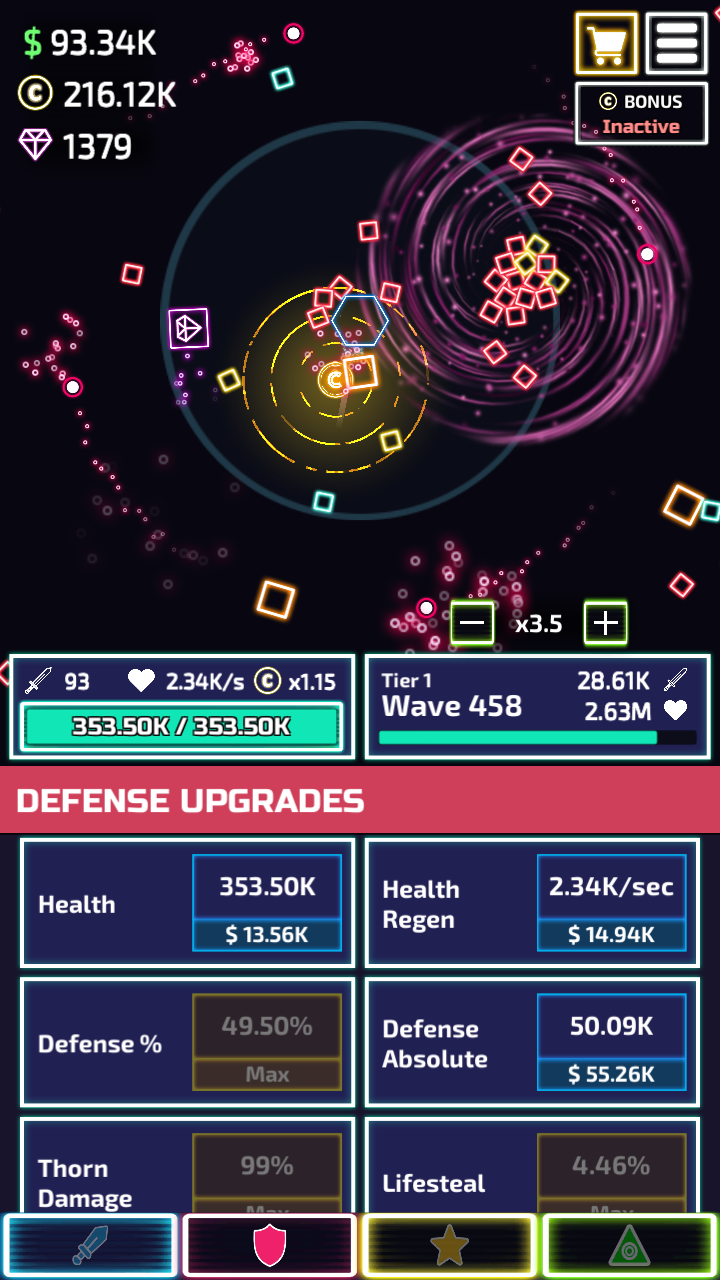B_Floating_Gem: (164, 304, 214, 354)
B_Menu_Closed: (571, 11, 710, 77)
B_Slot: (367, 842, 694, 965), (367, 979, 694, 1098), (23, 988, 358, 1102), (21, 842, 349, 958), (21, 1120, 351, 1209), (363, 1122, 696, 1207)
B_Slot_Button: (189, 858, 342, 954), (536, 997, 689, 1091), (190, 1001, 344, 1090), (536, 860, 685, 949), (187, 1138, 340, 1209), (531, 1139, 685, 1205)
B_Slot_Label: (372, 1008, 497, 1081), (25, 1150, 142, 1209), (374, 872, 468, 936), (367, 1161, 495, 1203), (32, 1024, 169, 1063), (25, 887, 130, 928)
B_Slot_Maxed: (190, 993, 342, 1095), (531, 1138, 687, 1211), (190, 1139, 344, 1209)
B_Slot_Price: (547, 917, 668, 951), (550, 1061, 666, 1091), (212, 917, 319, 949)
B_Slot_Value: (539, 869, 680, 901), (198, 1009, 324, 1043), (548, 1009, 660, 1043), (552, 1148, 664, 1182), (208, 869, 322, 899), (210, 1150, 304, 1184)
B_Tab_Defense: (2, 773, 720, 835)
